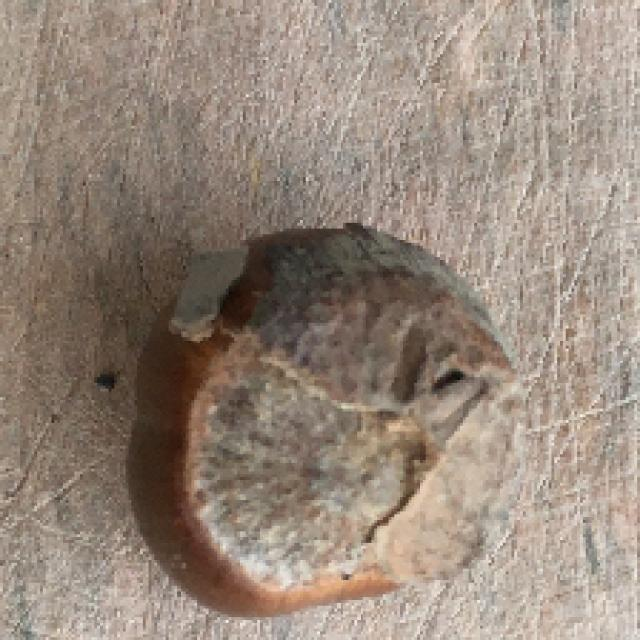damagedHazelnut: (128, 222, 508, 617)
